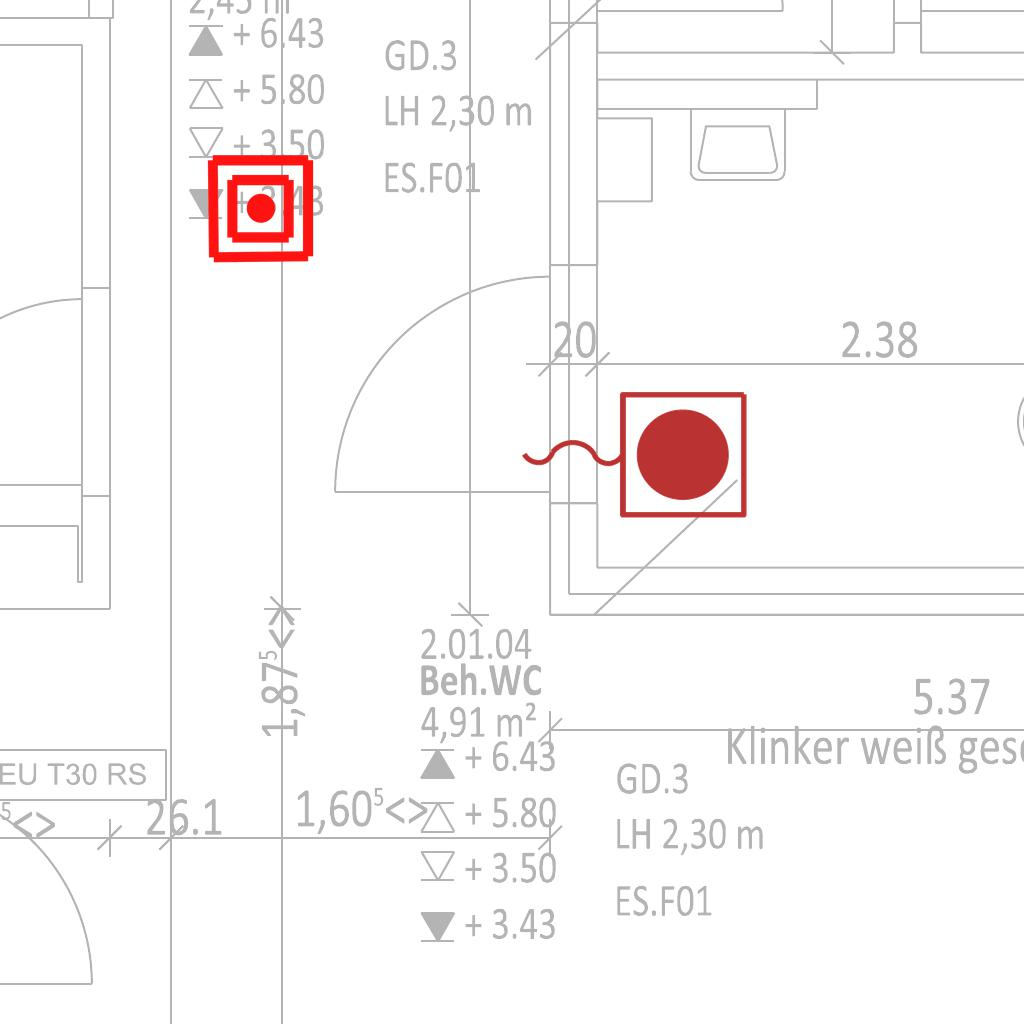NAM-Nichtautomatischer_Melder: (204, 152, 317, 265)
Zugtaster: (511, 381, 755, 525)
